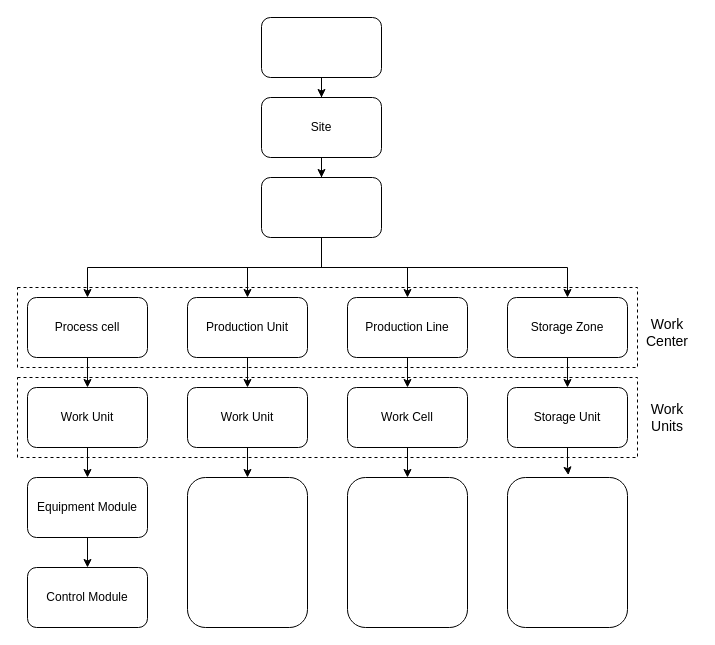
Some shapes in this 715 by 645 pixel diagram are drawn without their labels. The box of each missing label's shape, as (x1, y1, x2, y2) in pixels:
Area: (260, 176, 382, 238)
Enterprise: (260, 16, 382, 78)
Equipment Module Or Work Module for storage or movement: (506, 476, 628, 628)
Equipment Module Or Work Module in continuos production: (186, 476, 308, 628)
Equipment Module Or Work Module in repetitive or discrete production: (346, 476, 468, 628)
